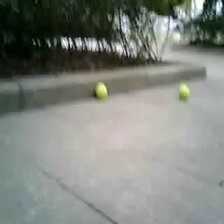tennis: (95, 82, 108, 99), (179, 85, 190, 100)
